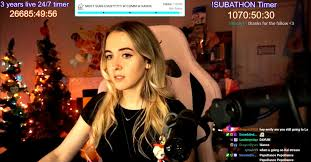person: (36, 20, 222, 161)
